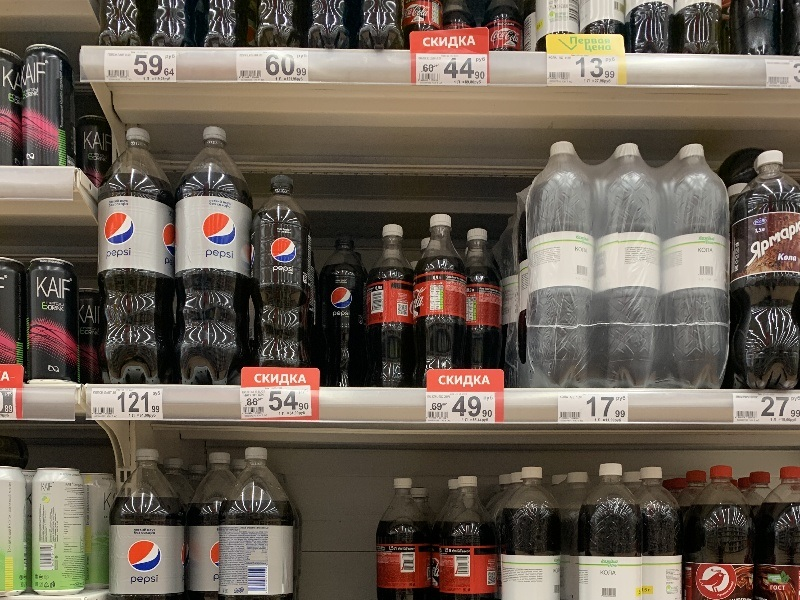lemonade: (87, 119, 190, 395), (160, 124, 261, 390), (248, 171, 319, 388), (316, 231, 380, 392), (366, 220, 423, 397), (411, 211, 468, 384)
